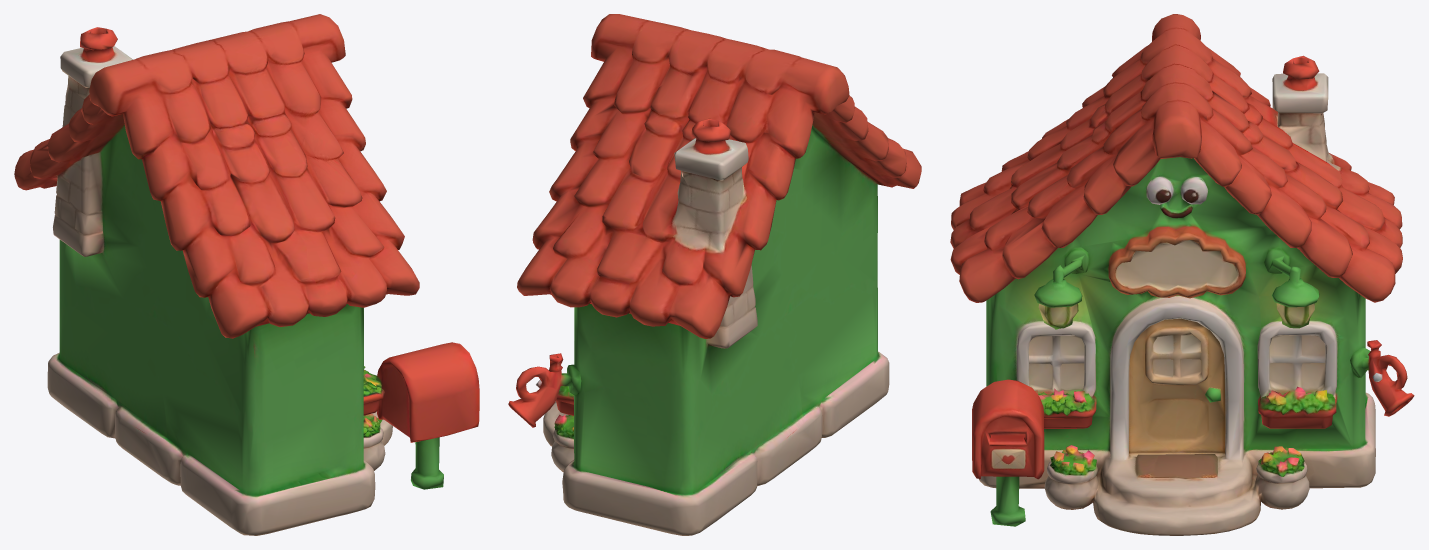
File: post_office.glb
3 renders of one model, left to right at view 1: azimuth 30°, elevation 25°; view 2: azimuth 150°, elevation 25°; view 3: azimuth 270°, elevation 25°, orthographic. The views are drawn at different scales.
Visible parts, largest first — view 1: tripo_node_e67a9ea3-f19f-4063-9be4-db86963ea8cd; view 2: tripo_node_e67a9ea3-f19f-4063-9be4-db86963ea8cd; view 3: tripo_node_e67a9ea3-f19f-4063-9be4-db86963ea8cd.
Boxes of the visible parts, bbox=[...] form: tripo_node_e67a9ea3-f19f-4063-9be4-db86963ea8cd: bbox=[14, 14, 479, 535]; tripo_node_e67a9ea3-f19f-4063-9be4-db86963ea8cd: bbox=[508, 14, 921, 535]; tripo_node_e67a9ea3-f19f-4063-9be4-db86963ea8cd: bbox=[950, 14, 1414, 535].
Bounding box in the file's own units: 0.2517 × 0.35 × 0.3706.
1 material, 1 textured.
